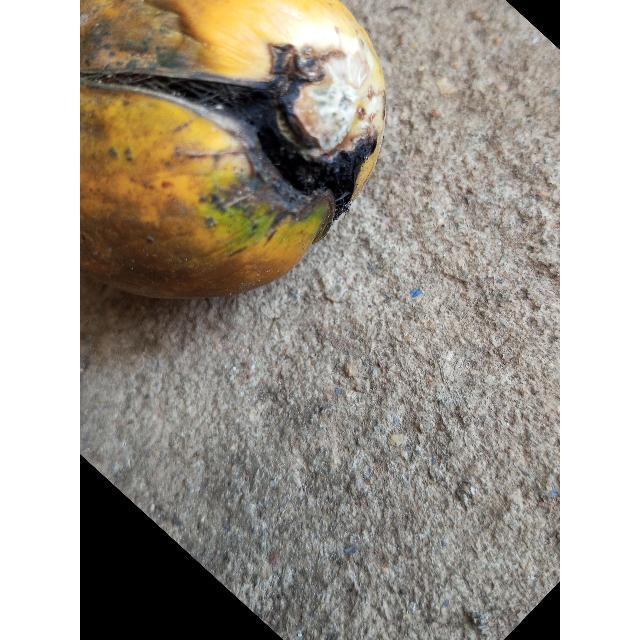damaged: (80, 0, 385, 303)
